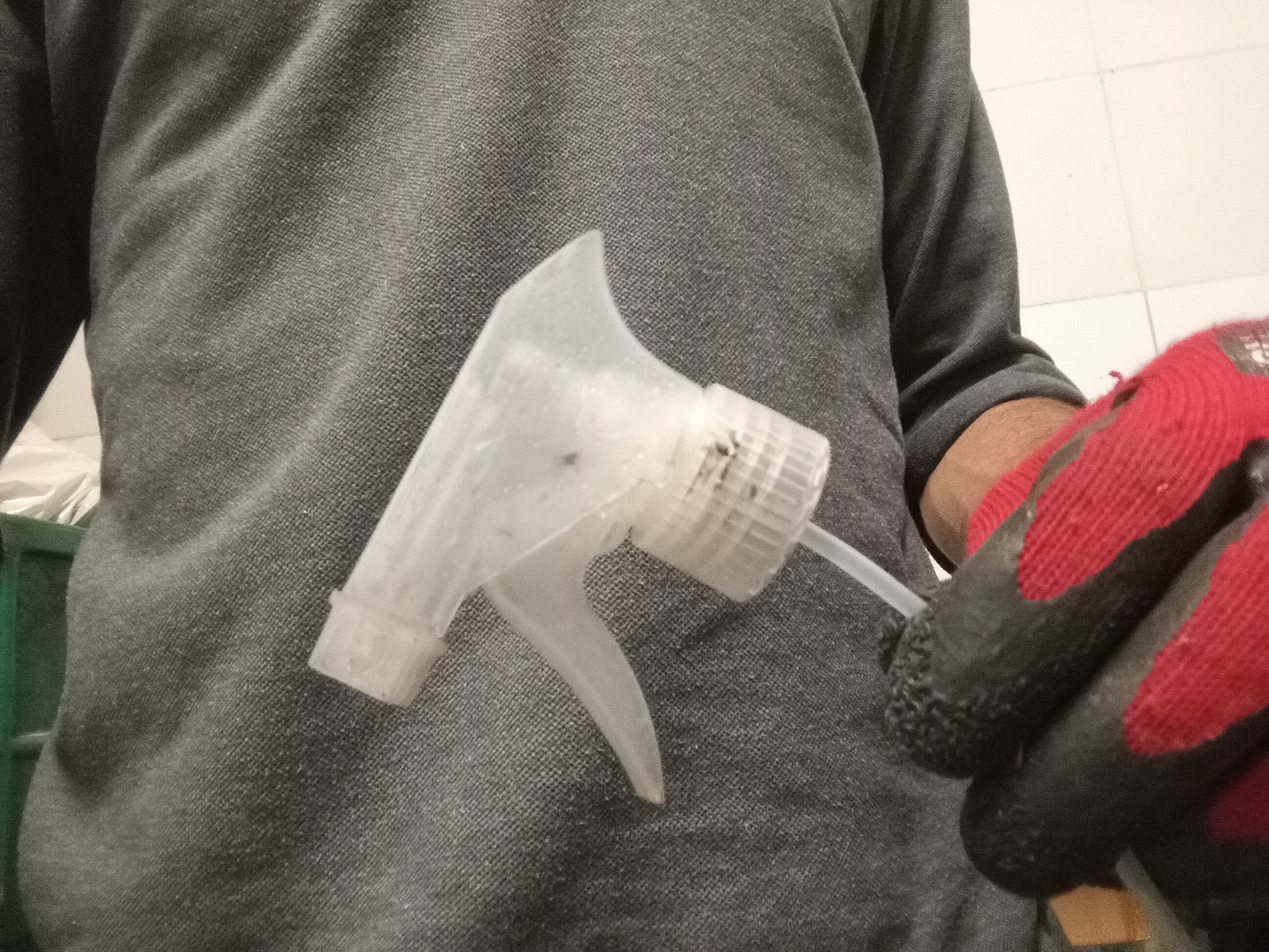Plastico: (307, 228, 921, 806)
